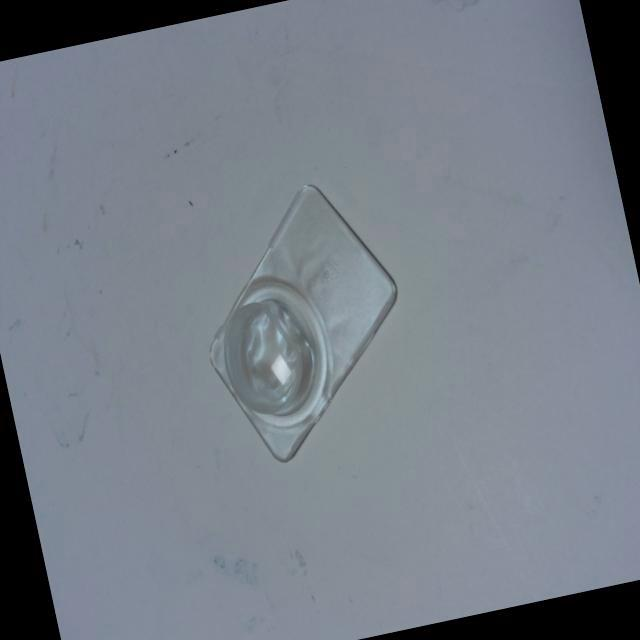plastic: (156, 162, 450, 504)
